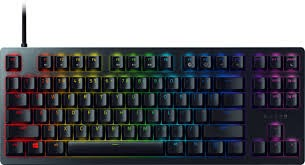keyboard: (0, 48, 305, 165)
